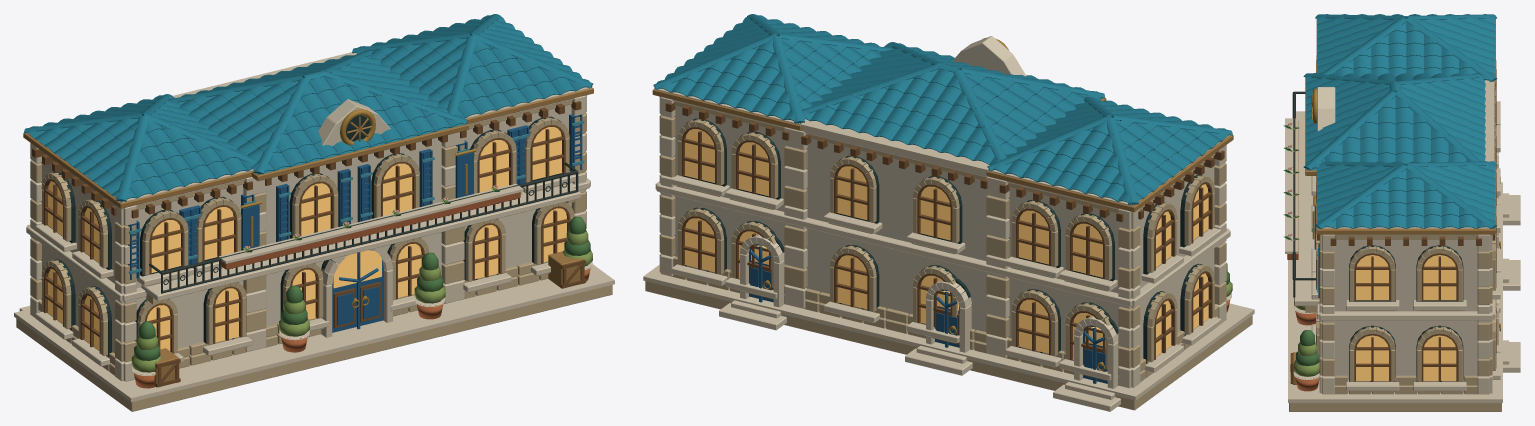
3 views of the same model, side by side, from view 1: azimuth 30°, elevation 25°; view 2: azimuth 150°, elevation 25°; view 3: azimuth 270°, elevation 25° (orthographic). The views are drawn at different scales.
Parts seen in each view (by area): view 1: harbor_finance_2_geometry, harbor_finance_2_geometry ceramic; view 2: harbor_finance_2_geometry, harbor_finance_2_geometry ceramic; view 3: harbor_finance_2_geometry, harbor_finance_2_geometry ceramic.
Part boxes in pixels (x1,y1,x2,y2): harbor_finance_2_geometry: [14, 52, 614, 411]; harbor_finance_2_geometry ceramic: [24, 14, 593, 273]; harbor_finance_2_geometry: [643, 36, 1254, 411]; harbor_finance_2_geometry ceramic: [653, 14, 1232, 205]; harbor_finance_2_geometry: [1283, 19, 1520, 411]; harbor_finance_2_geometry ceramic: [1303, 14, 1497, 292].
Size of the model in its own units: 2.2 by 1.03 by 1.02.
